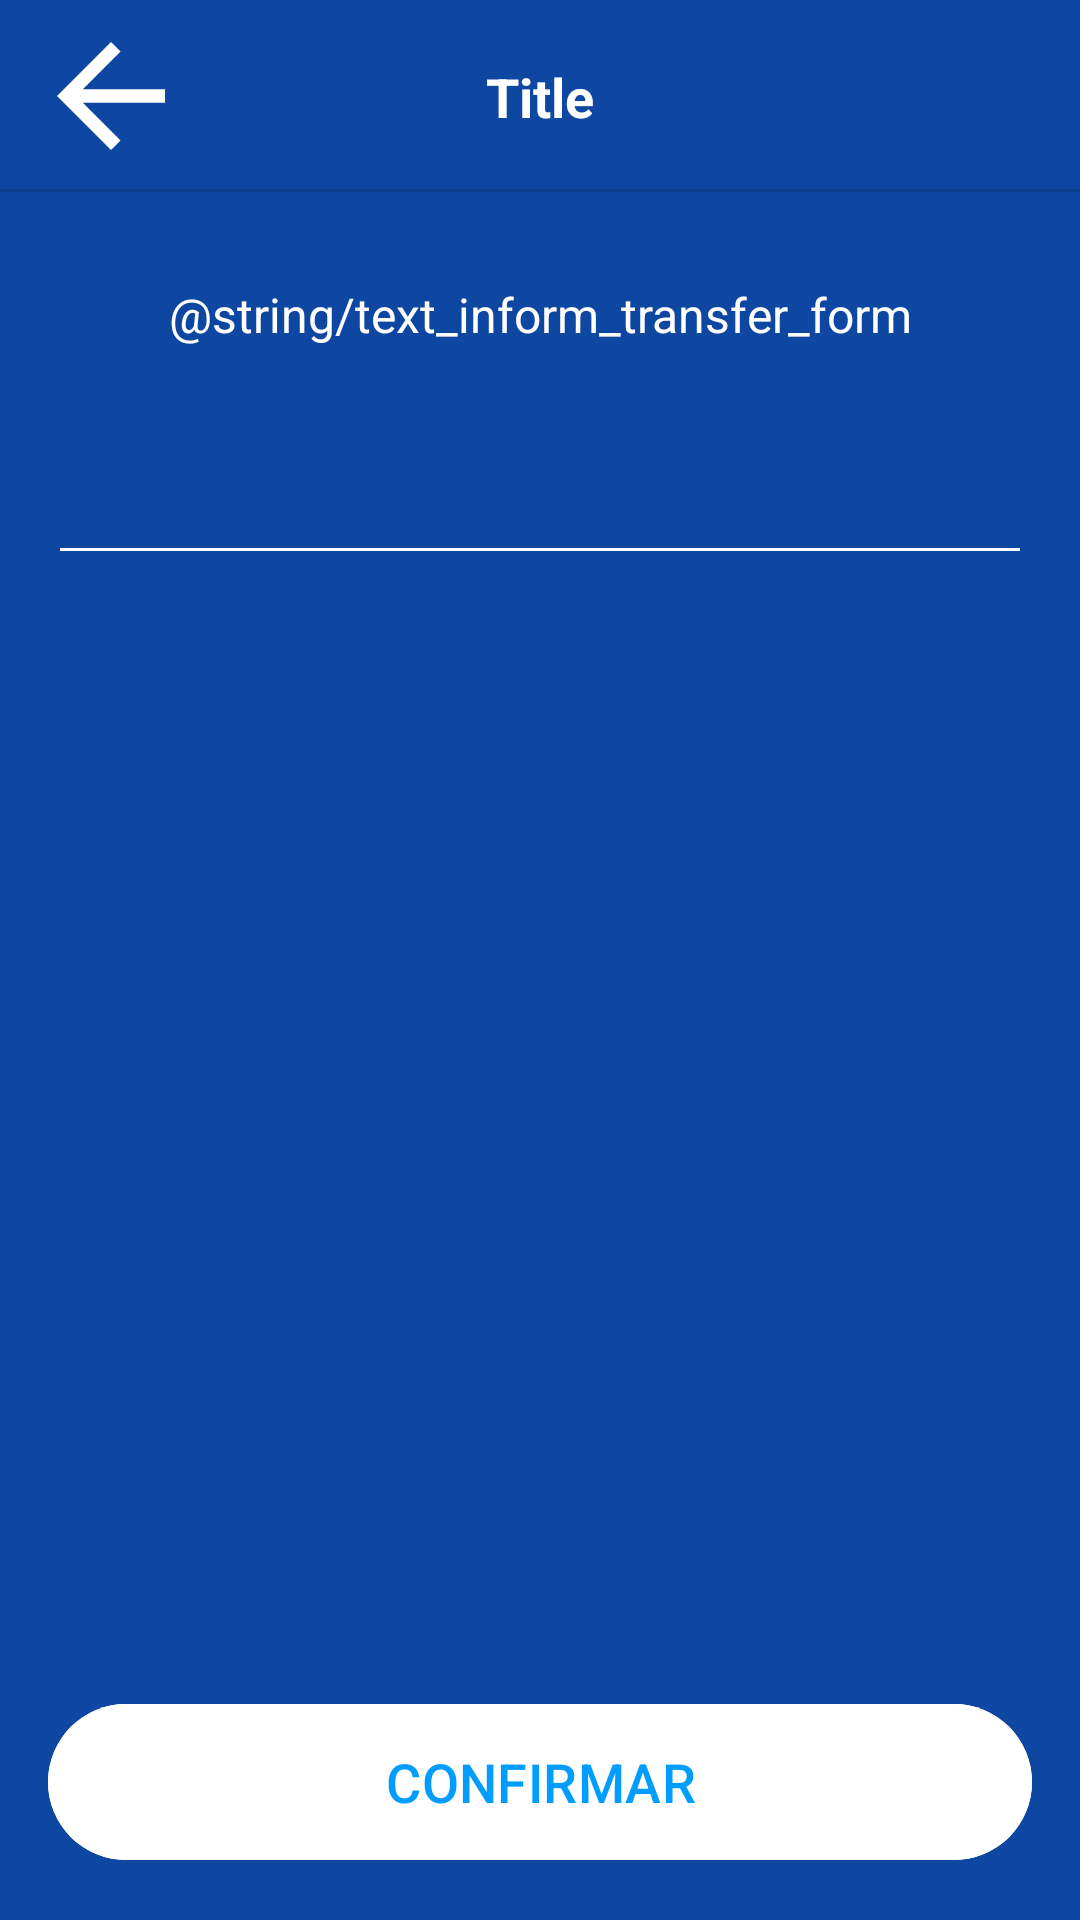

Locate icon controls on the screen. Image size 1080px x 1920px, boxes as (x1,y1,x2,y2).
back: (57,42,165,150)
